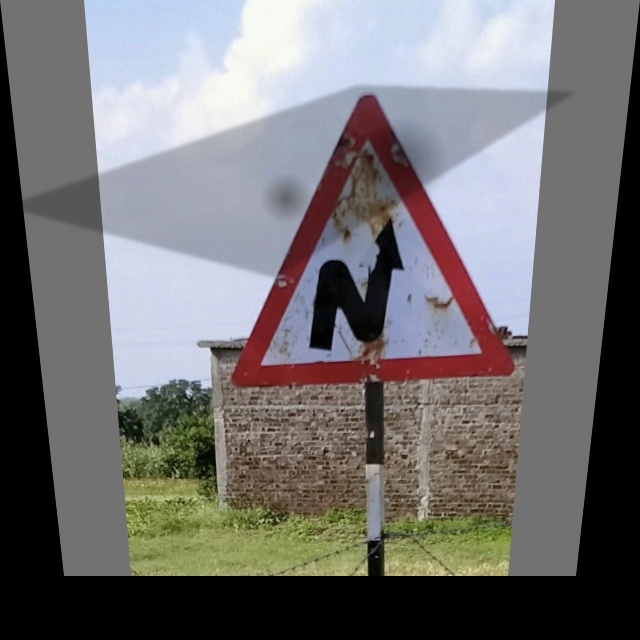Right_Reverse_Bend: (215, 94, 536, 377)
